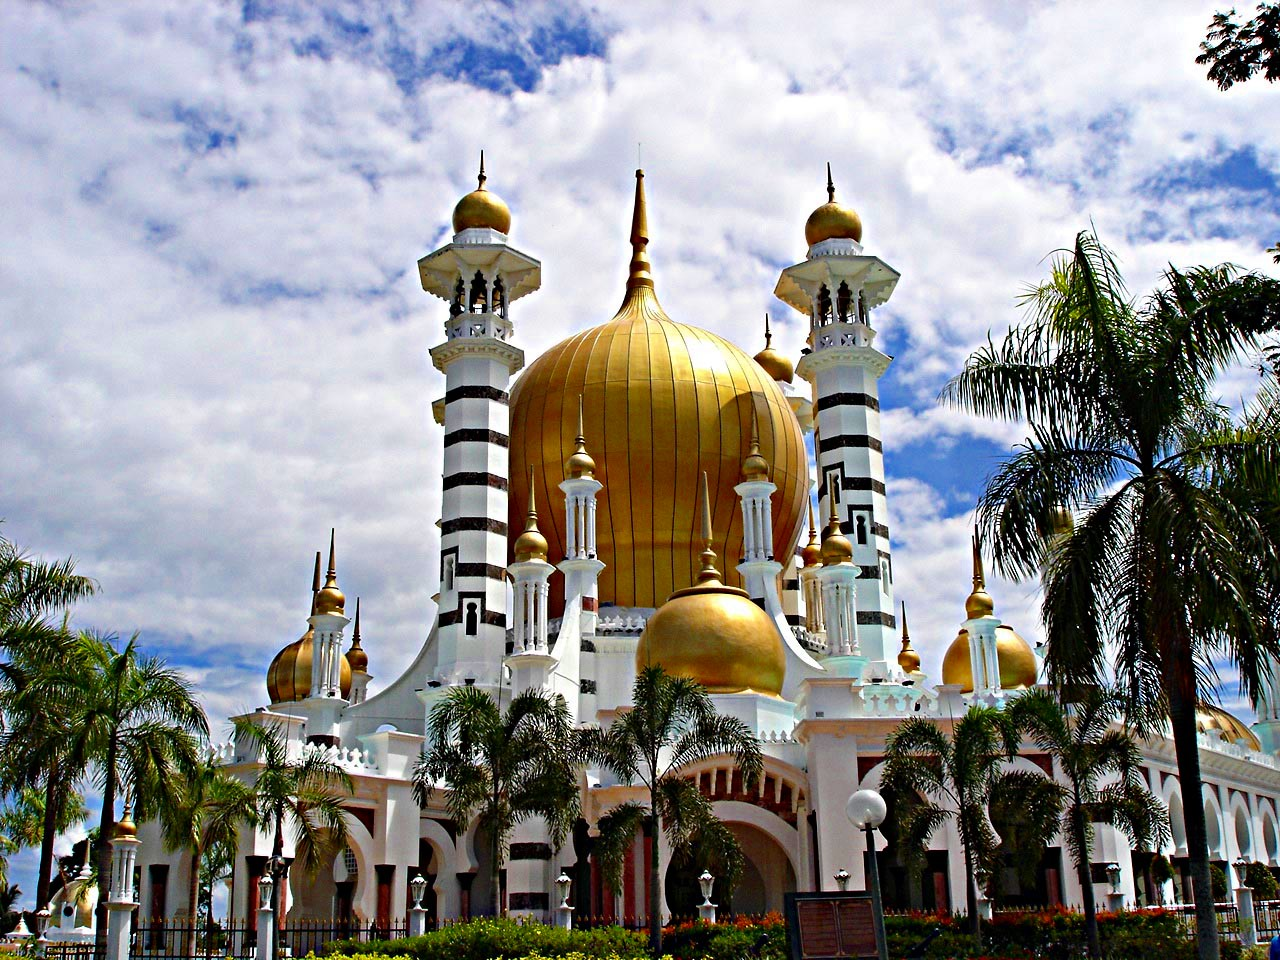Mosque: (279, 152, 1012, 911)
